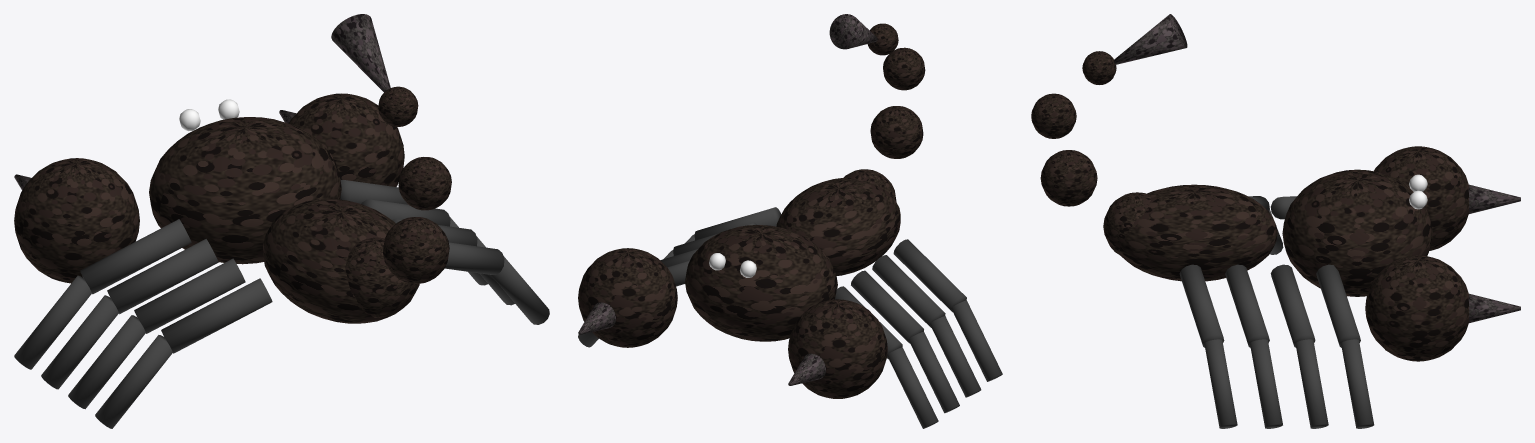
The model's file is guardian-scorpion.glb.
3 renders of one model, left to right at view 1: azimuth 30°, elevation 25°; view 2: azimuth 150°, elevation 25°; view 3: azimuth 270°, elevation 25°, orthographic. The views are drawn at different scales.
Parts seen in each view (by area): view 1: FrontMass, Claw, Abdomen, Claw.001, TailSeg1, TailSeg0, LegUpper.003, LegUpper, LegUpper.001, LegUpper.002, LegLower.001, LegLower (+10 smaller); view 2: FrontMass, Abdomen, Claw.001, Claw, TailSeg1, LegUpper.003, LegUpper.002, LegUpper.001, LegLower.001, LegLower.003, LegLower.002, LegLower (+8 smaller); view 3: FrontMass, Abdomen, Claw.001, Claw, TailSeg1, LegUpper.006, LegUpper.007, LegUpper.005, LegUpper.004, Stinger, LegLower.007, LegLower.005 (+7 smaller).
Boxes of the visible parts, x1,y1,x2,y2 form: FrontMass: (149,117,341,264); Claw: (14,158,139,283); Abdomen: (263,199,419,323); Claw.001: (288,93,404,186); TailSeg1: (383,217,449,283); TailSeg0: (345,237,414,317); LegUpper.003: (161,278,272,353); LegUpper: (80,219,191,294); LegUpper.001: (107,239,218,314); LegUpper.002: (134,258,245,333); LegLower.001: (41,295,118,389); LegLower: (14,275,91,369); FrontMass: (685,225,837,341); Abdomen: (776,177,900,275); Claw.001: (578,248,677,347); Claw: (788,299,887,398); TailSeg1: (870,106,923,158); LegUpper.003: (893,239,966,312); LegUpper.002: (872,255,945,327); LegUpper.001: (851,270,923,343); LegLower.001: (909,331,959,413); LegLower.003: (952,300,1002,381); LegLower.002: (930,316,981,397); LegLower: (888,347,938,428); FrontMass: (1282,169,1432,296); Abdomen: (1120,184,1277,281); Claw.001: (1365,255,1469,361); Claw: (1374,146,1469,250); TailSeg1: (1040,150,1097,206); LegUpper.006: (1225,264,1269,347); LegUpper.007: (1179,264,1224,347); LegUpper.005: (1270,264,1315,347); LegUpper.004: (1316,264,1360,347); Stinger: (1114,14,1187,64); LegLower.007: (1204,339,1237,428); LegLower.005: (1295,339,1328,428).
Bounding box in the file's own units: 0.8986 × 0.7345 × 1.
Materials: 4 (2 with a texture image).
